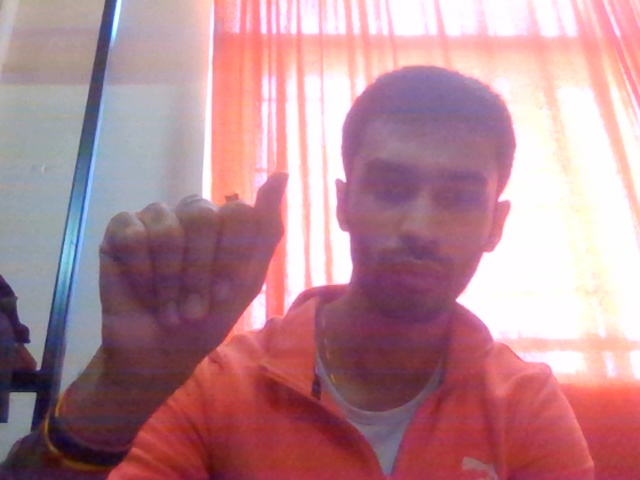A: (92, 141, 308, 451)
